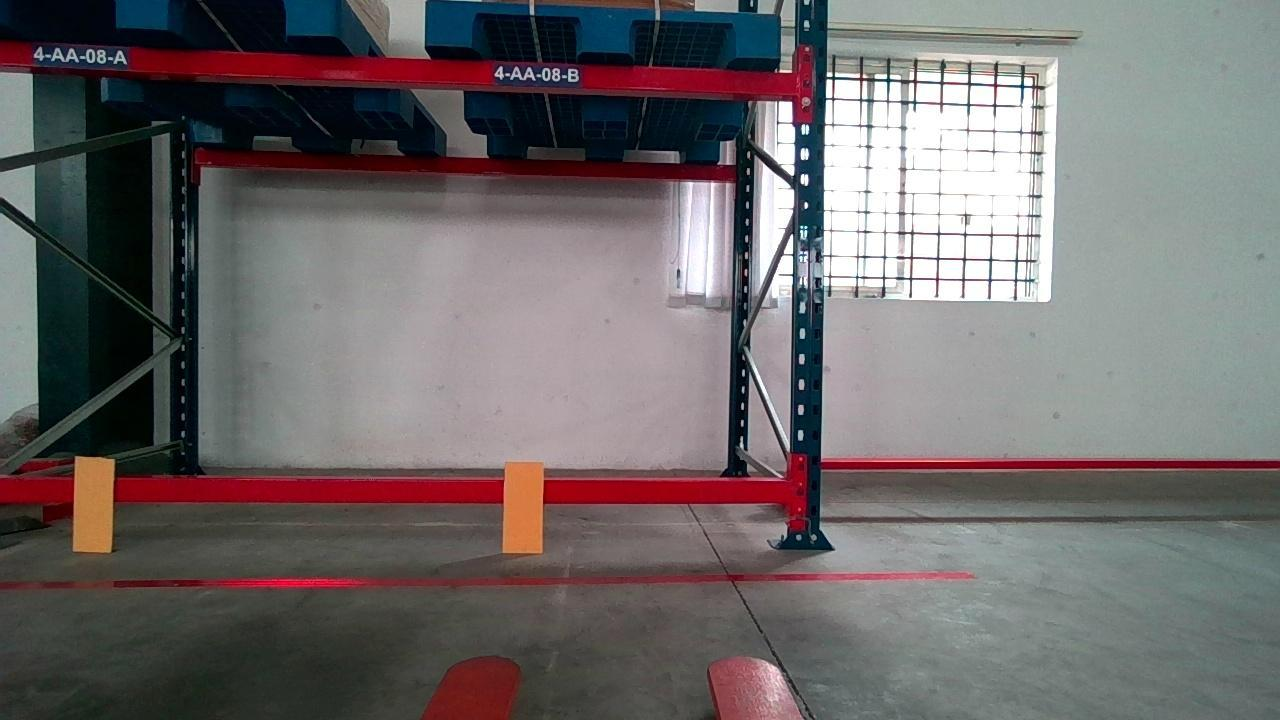h_rack: (1, 43, 799, 97), (1, 478, 790, 503)
orange_strip: (502, 461, 546, 555), (72, 458, 113, 554)
red_line: (2, 567, 975, 590)
small_pallet: (425, 0, 780, 58)
